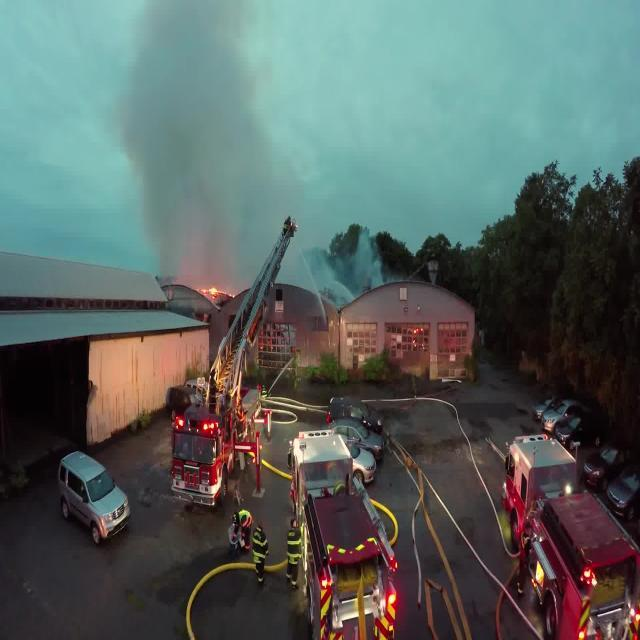Smoke: (115, 0, 408, 281), (494, 433, 640, 640)
